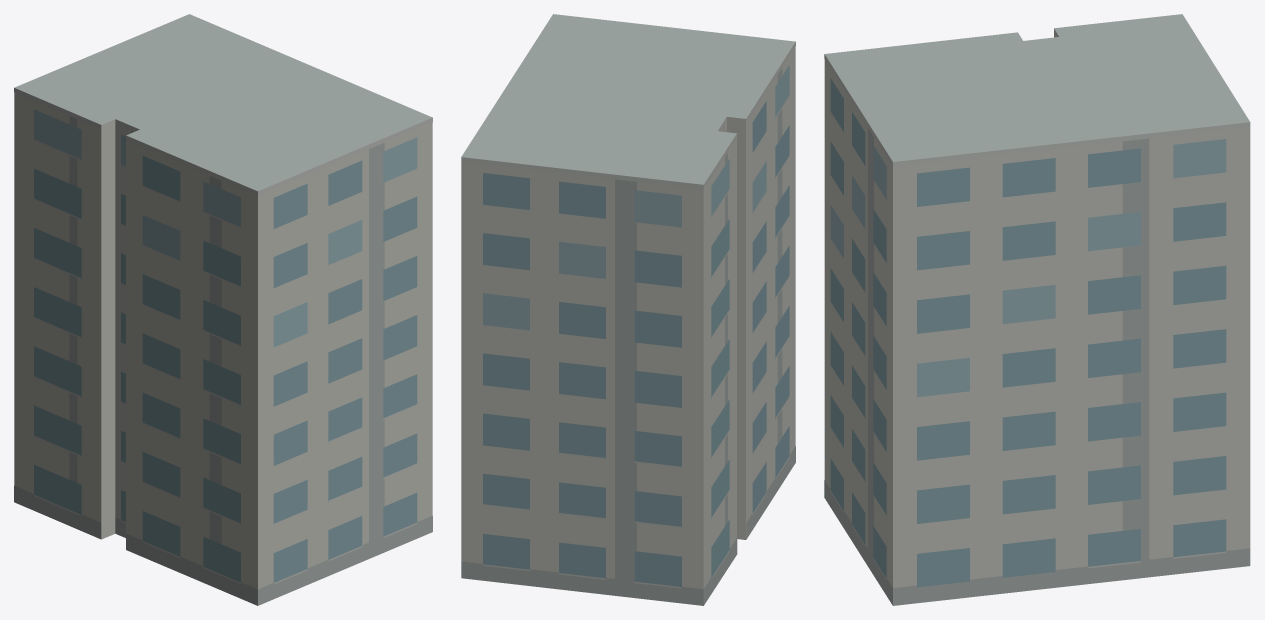
The model's file is survey-upis-32562239.glb.
3 renders of one model, left to right at view 1: azimuth 30°, elevation 25°; view 2: azimuth 150°, elevation 25°; view 3: azimuth 270°, elevation 25°, orthographic. The views are drawn at different scales.
Visible parts, largest first — view 1: survey-upis-32562239.tmp; view 2: survey-upis-32562239.tmp; view 3: survey-upis-32562239.tmp.
Part boxes in pixels (x1,y1,x2,y2): survey-upis-32562239.tmp: [14, 14, 432, 605]; survey-upis-32562239.tmp: [461, 14, 795, 605]; survey-upis-32562239.tmp: [824, 14, 1250, 605].
Bounding box in the file's own units: 15.28 × 21.35 × 18.57.
